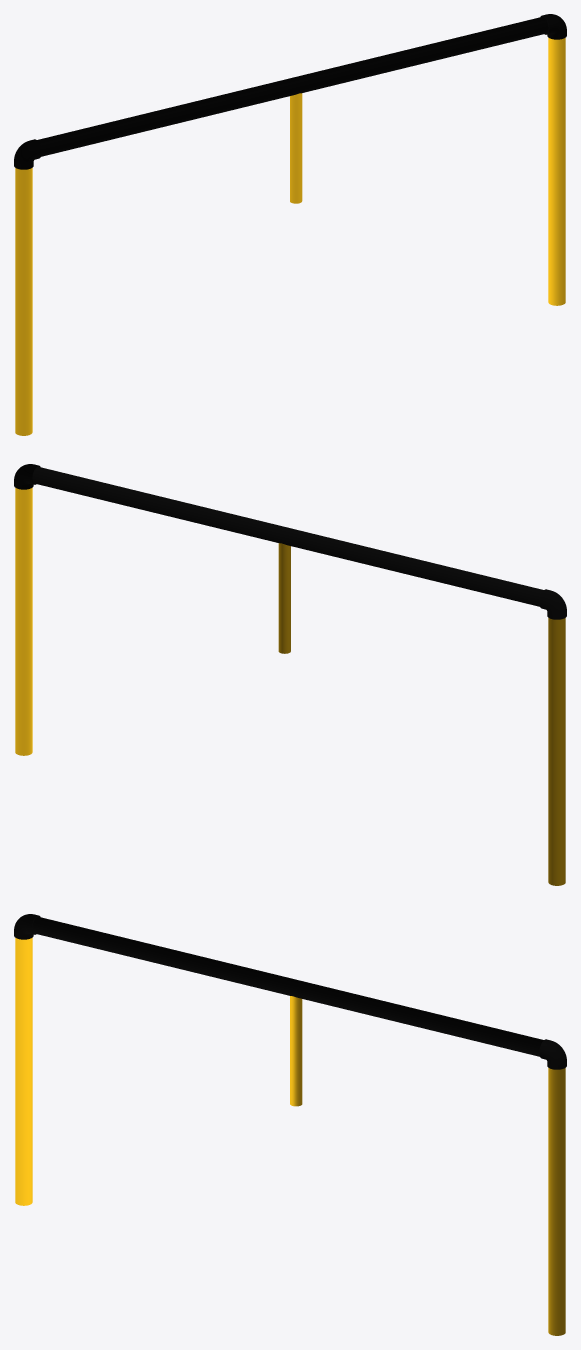
The model's file is gate.dae.
3 views of the same model, one above another, from view 1: azimuth 30°, elevation 25°; view 2: azimuth 150°, elevation 25°; view 3: azimuth 330°, elevation 25° (orthographic).
Visible parts, largest first — view 1: horizontal_pvc, right, left, center, corner_left; view 2: horizontal_pvc, right, left, center, corner_left; view 3: horizontal_pvc, right, left, center, corner_right.
Boxes of the visible parts, x1,y1,x2,y2 form: horizontal_pvc: (37,16,548,156); right: (548,37,565,305); left: (15,168,32,435); center: (290,93,302,203); corner_left: (14,139,41,169); horizontal_pvc: (32,466,543,606); right: (15,487,32,755); left: (548,618,565,885); center: (278,543,290,653); corner_left: (539,589,566,619); horizontal_pvc: (32,916,543,1056); right: (548,1068,565,1335); left: (15,937,32,1205); center: (290,996,302,1106); corner_right: (539,1039,566,1069).
Bounding box in the file's own units: 3.26 × 0.1016 × 1.64.
